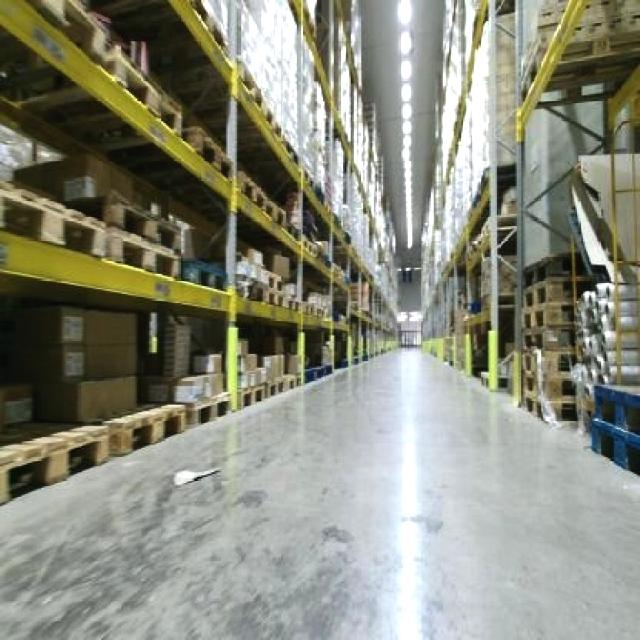floor: (0, 348, 637, 637)
